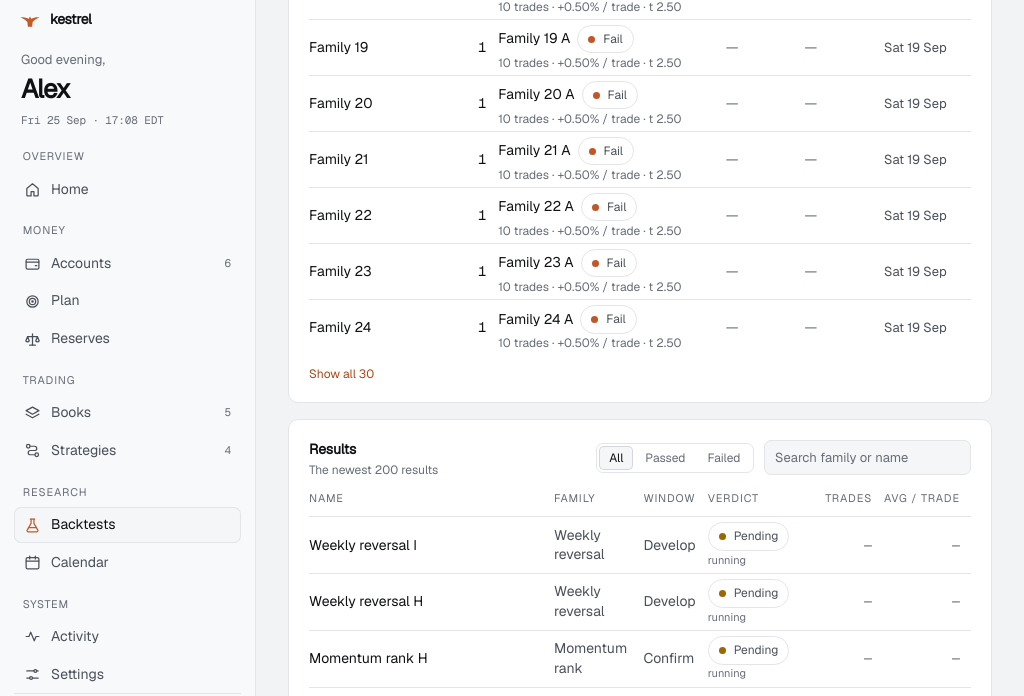
Backtests › shows the first families then all of them, when there are more than the page shows
(page scrolled)
Click the button "Show all 30".
click(342, 374)  # box x1=309 y1=366 x2=374 y2=382
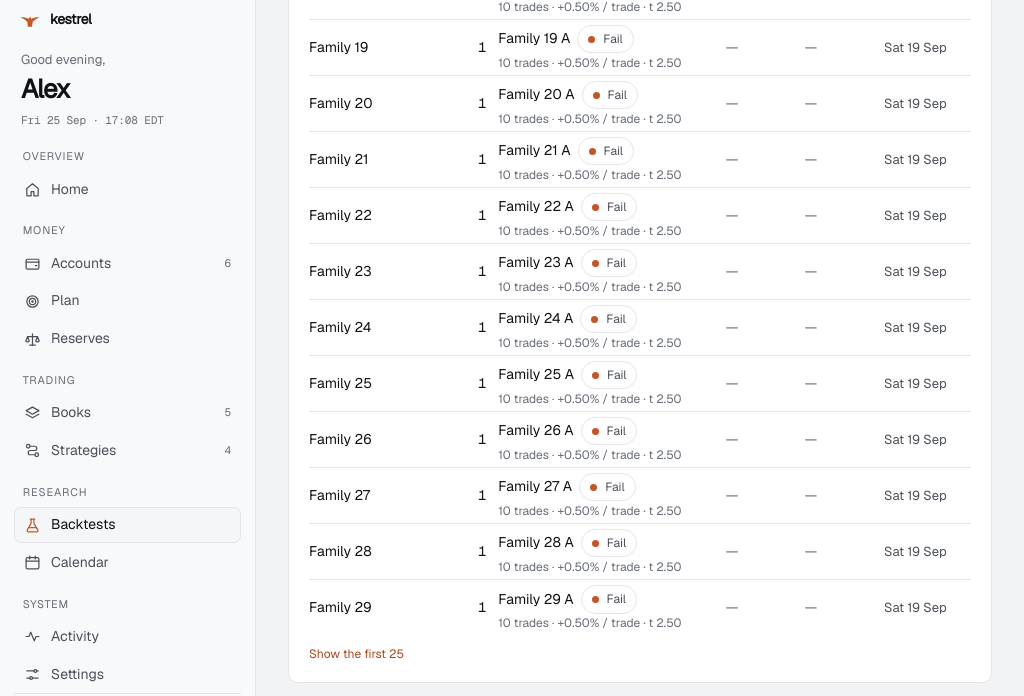
expect the button "Show the first 25" is shown: met, box x1=309 y1=646 x2=404 y2=662
